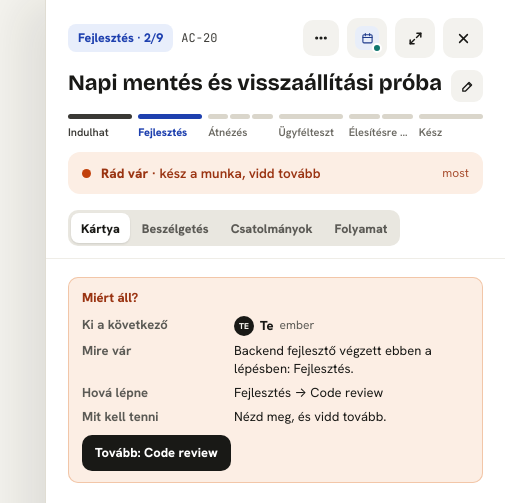
"Miért áll?" box in the drawer (PM-461) › shows the gate error under the button when the move is refused, and the button works again
The width and height of the screenshot is (505, 503).
Click the button "Tovább: Code review".
click(156, 453)  # box [82,435,231,471]
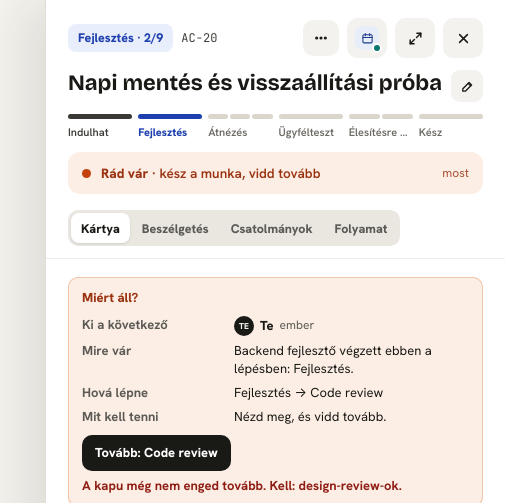
Result: the message shows "A kapu még nem enged tovább" at [82,477,402,494]
